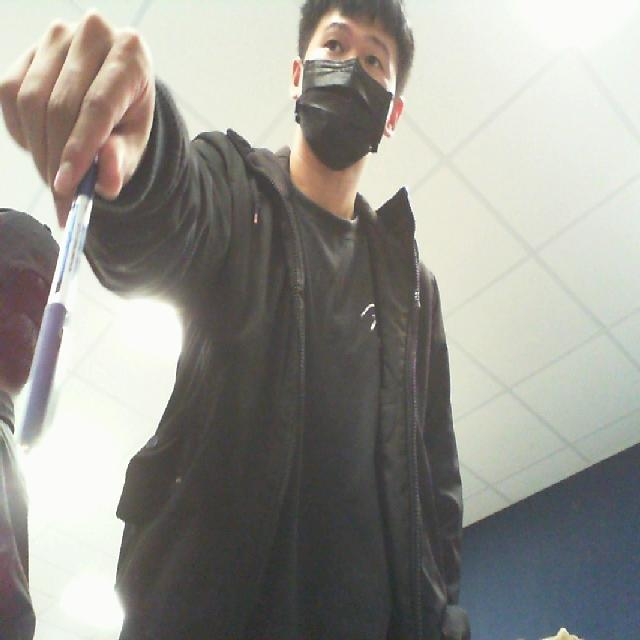Pen: (12, 126, 110, 447)
